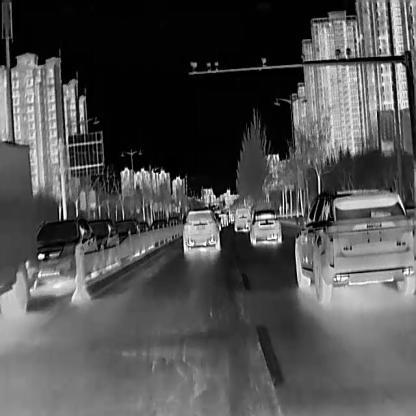car: (294, 187, 414, 304), (0, 140, 35, 318), (34, 217, 97, 292), (181, 207, 220, 254), (86, 217, 118, 269), (246, 207, 281, 245), (115, 218, 139, 255), (233, 206, 251, 231), (149, 217, 169, 237)
